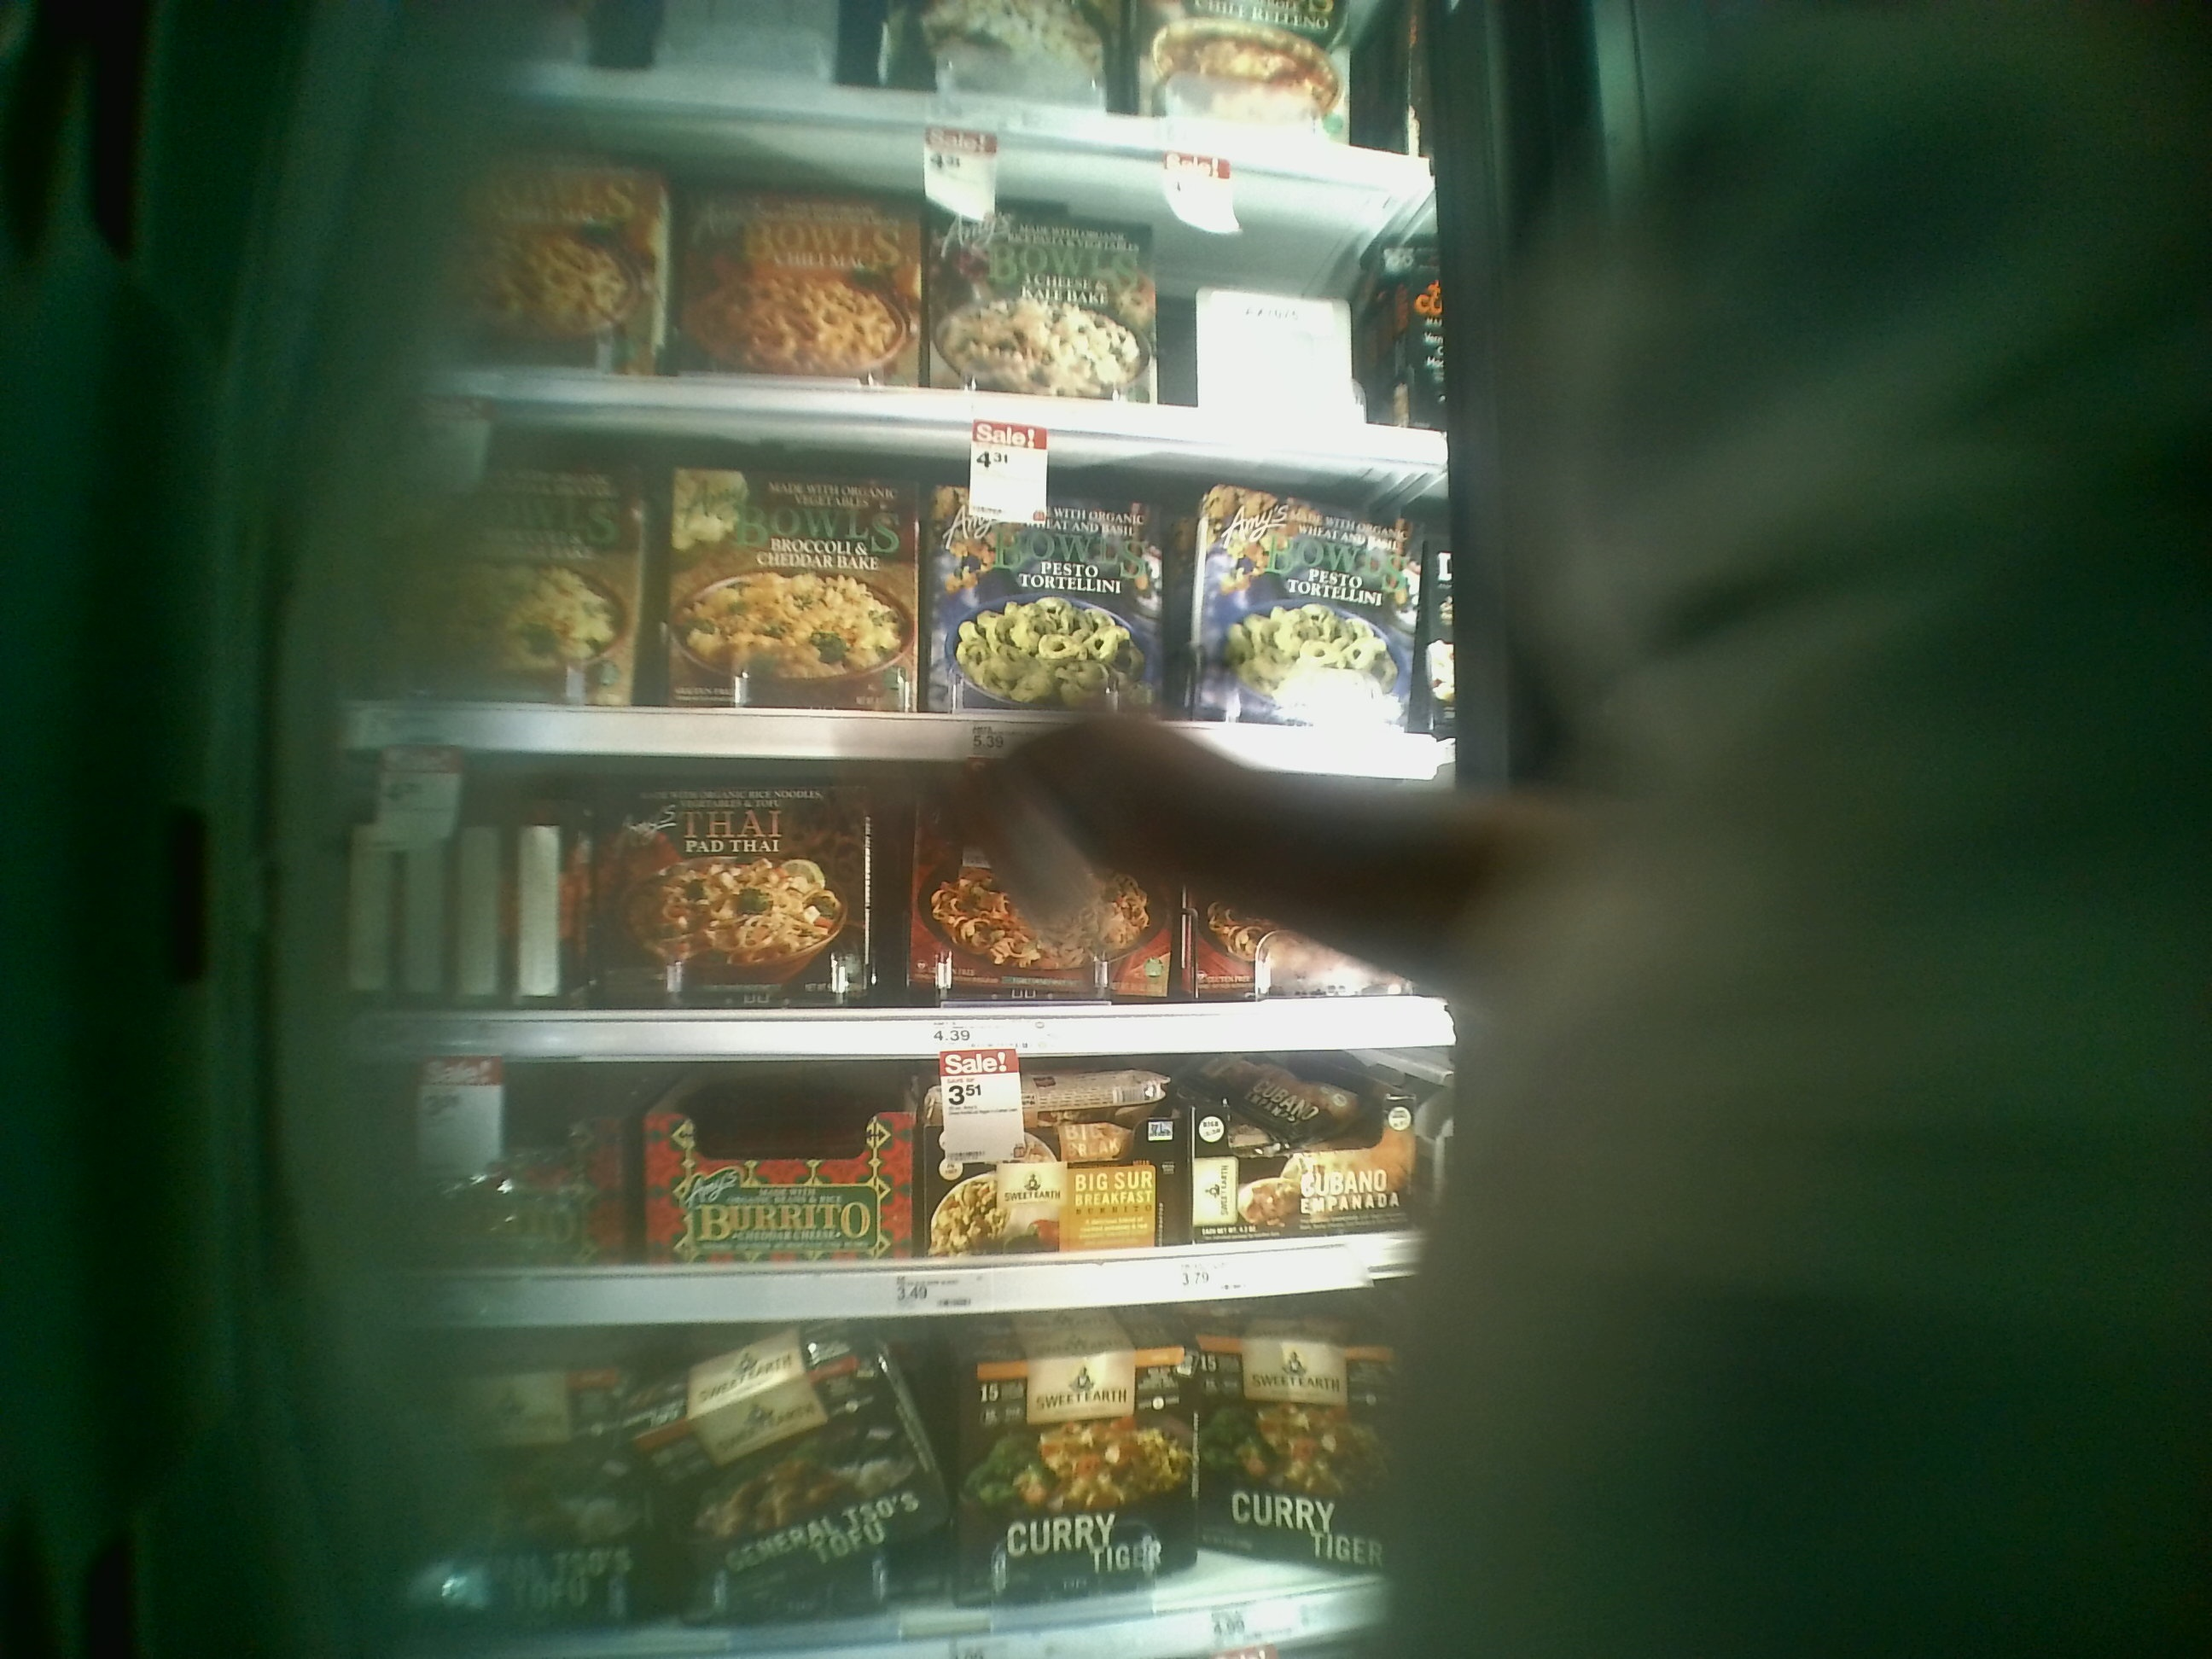frozen-food-shelf: (319, 462, 1474, 777), (320, 774, 1505, 1070), (315, 1073, 1531, 1328)
